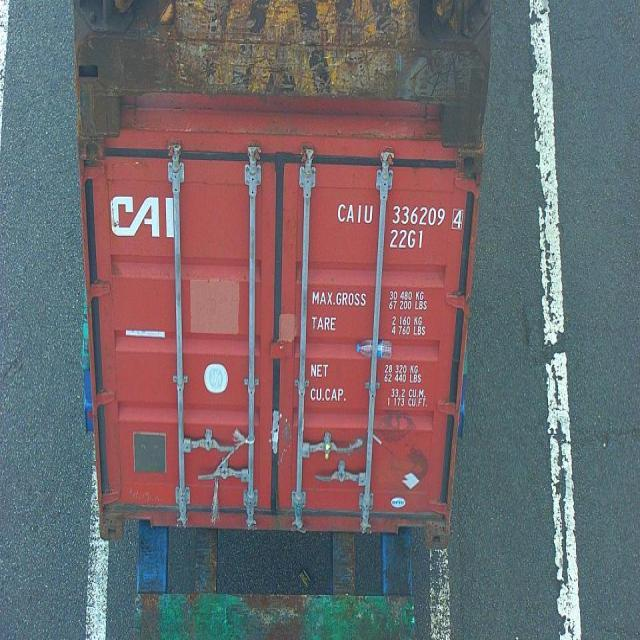ISO: (388, 230, 423, 250)
container_number: (337, 202, 462, 226)
